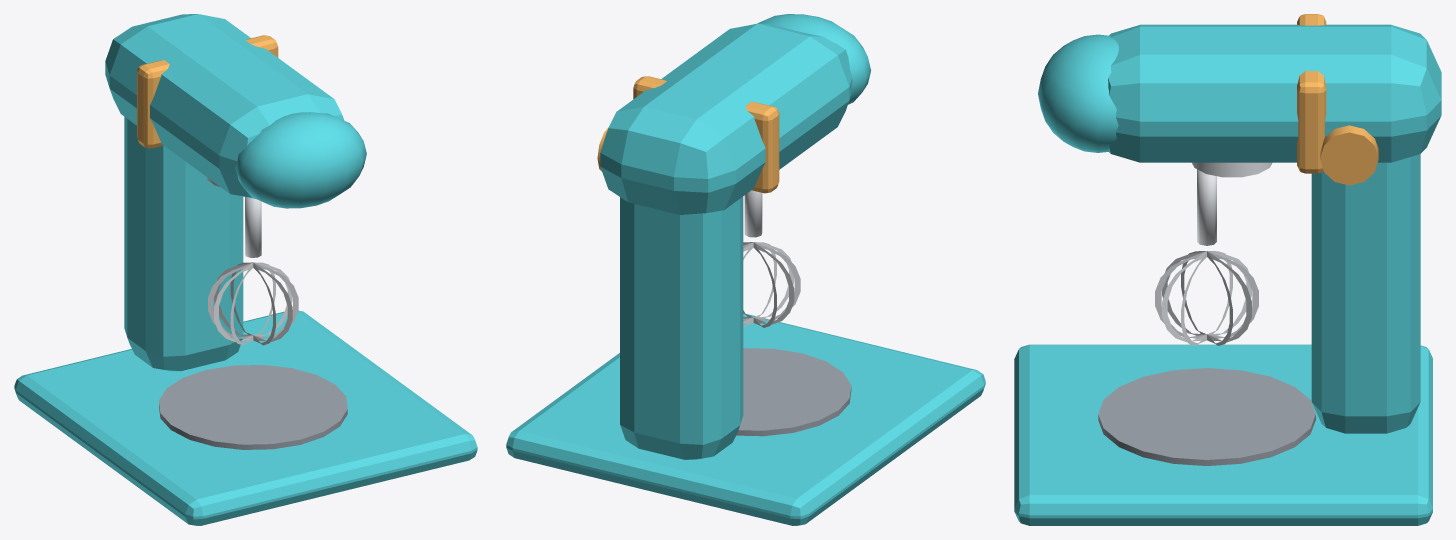
File: mixer.glb
3 renders of one model, left to right at view 1: azimuth 30°, elevation 25°; view 2: azimuth 150°, elevation 25°; view 3: azimuth 270°, elevation 25°, orthographic. The views are drawn at different scales.
Visible parts, largest first — view 1: Body, WhiskMesh; view 2: Body, WhiskMesh; view 3: Body, WhiskMesh.
Part boxes in pixels (x1,y1,x2,y2): Body: (14,14,477,525); WhiskMesh: (208,197,298,345); Body: (506,14,985,525); WhiskMesh: (743,190,800,327); Body: (1014,14,1441,525); WhiskMesh: (1155,169,1258,345).
Bounding box in the file's own units: 0.46 × 0.54 × 0.51.
